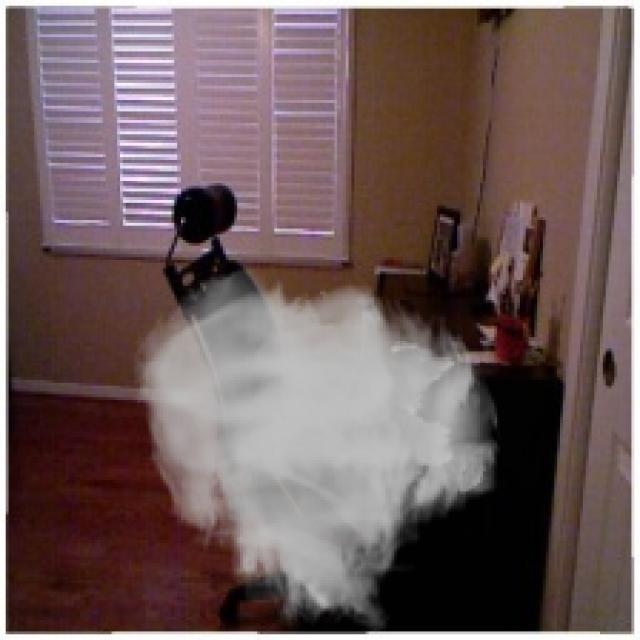Smoke: (131, 266, 503, 638)
